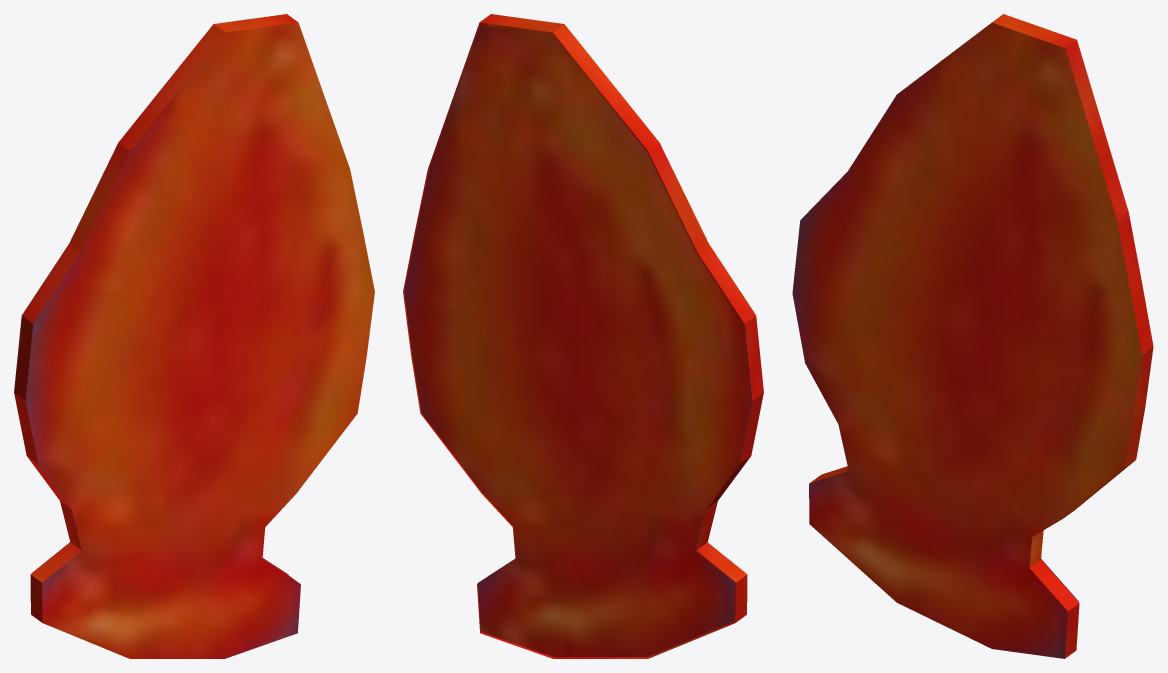
The model's file is Balao9.fbx.
3 renders of one model, left to right at view 1: azimuth 30°, elevation 25°; view 2: azimuth 150°, elevation 25°; view 3: azimuth 330°, elevation 25°, orthographic.
Parts seen in each view (by area): view 1: Circle.006; view 2: Circle.006; view 3: Circle.006.
Part boxes in pixels (x1=…): Circle.006: x1=14, y1=14, x2=374, y2=658; Circle.006: x1=403, y1=14, x2=763, y2=658; Circle.006: x1=792, y1=14, x2=1153, y2=658.
Bounding box in the file's own units: 20.96 × 35.9 × 1.2.
1 material, 1 textured.
